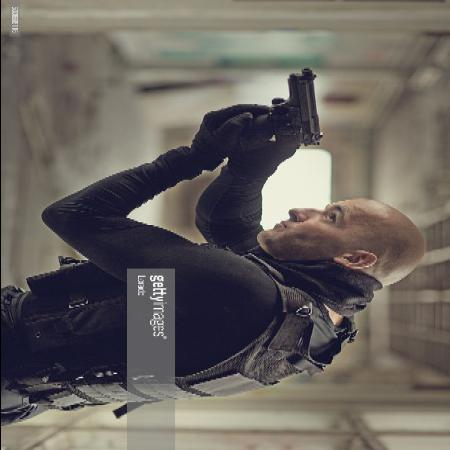Pistol: (260, 62, 324, 150)
